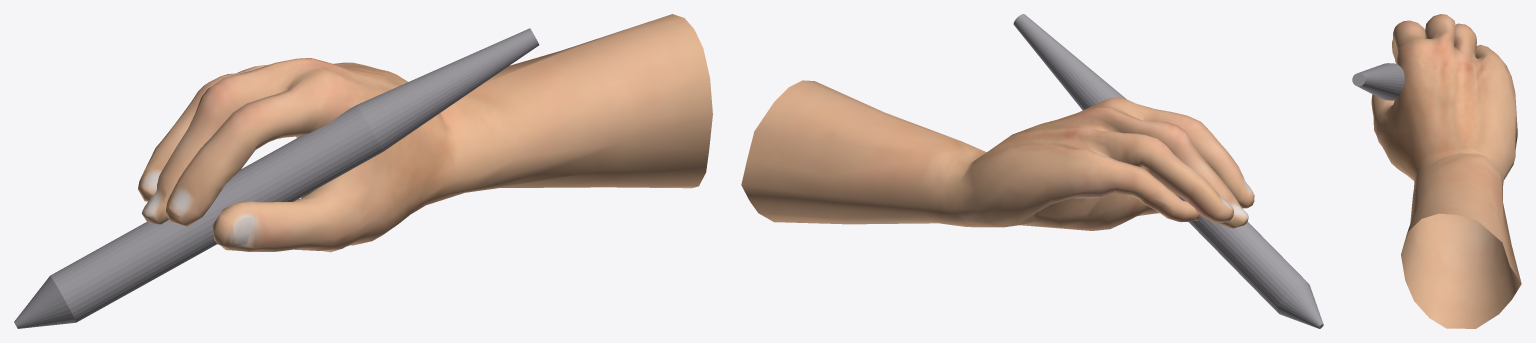
Rendered from penhandComp.obj.
The picture shows the model from 3 angles, left to right: view 1: azimuth 30°, elevation 25°; view 2: azimuth 150°, elevation 25°; view 3: azimuth 270°, elevation 25°; orthographic projection. The views are drawn at different scales.
Parts seen in each view (by area): view 1: Human, Mesh_Cylinder; view 2: Human, Mesh_Cylinder; view 3: Human, Mesh_Cylinder.
Boxes of the visible parts, x1,y1,x2,y2 form: Human: (138,14,712,252); Mesh_Cylinder: (14,28,539,328); Human: (741,80,1254,230); Mesh_Cylinder: (1013,14,1323,328); Human: (1371,14,1521,328); Mesh_Cylinder: (1352,63,1404,100).
Size of the model in its own units: 3.57 by 1.29 by 1.1.
